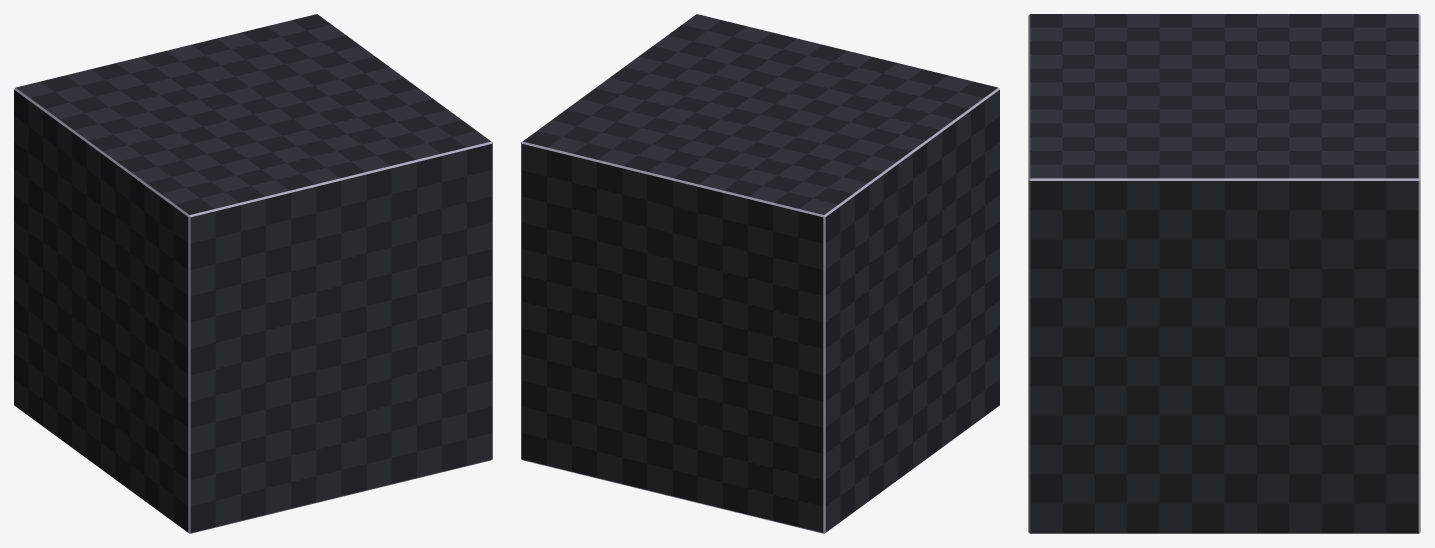
File: PMP-M-Ground-Main-4x4x4-V1.fbx
3 renders of one model, left to right at view 1: azimuth 30°, elevation 25°; view 2: azimuth 150°, elevation 25°; view 3: azimuth 270°, elevation 25°, orthographic. The views are drawn at different scales.
Visible parts, largest first — view 1: MONO-Terrain-A-4x4x4; view 2: MONO-Terrain-A-4x4x4; view 3: MONO-Terrain-A-4x4x4.
Boxes of the visible parts, x1,y1,x2,y2 form: MONO-Terrain-A-4x4x4: [14, 14, 492, 533]; MONO-Terrain-A-4x4x4: [521, 14, 999, 533]; MONO-Terrain-A-4x4x4: [1028, 14, 1420, 533].
Size of the model in its own units: 400 by 400 by 400.
